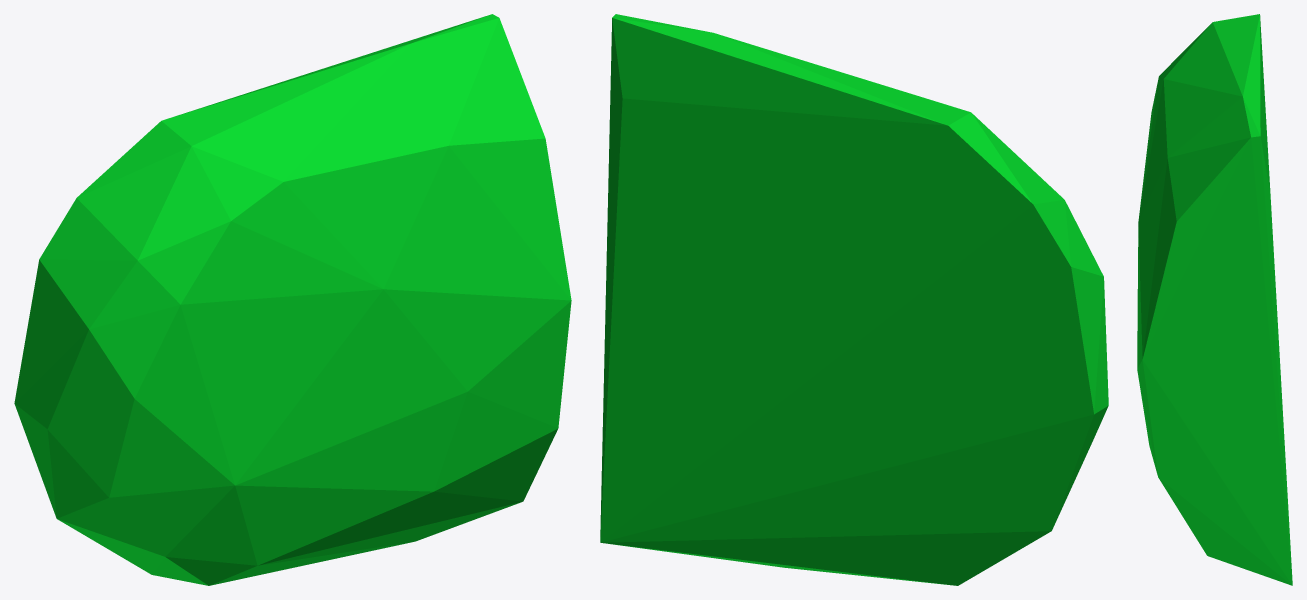
File: arm-L4-mirror_convex_piece_005.obj
The picture shows the model from 3 angles, left to right: view 1: azimuth 30°, elevation 25°; view 2: azimuth 150°, elevation 25°; view 3: azimuth 270°, elevation 25°; orthographic projection. The views are drawn at different scales.
Bounding box in the file's own units: 0.0792 × 0.0777 × 0.0242.
